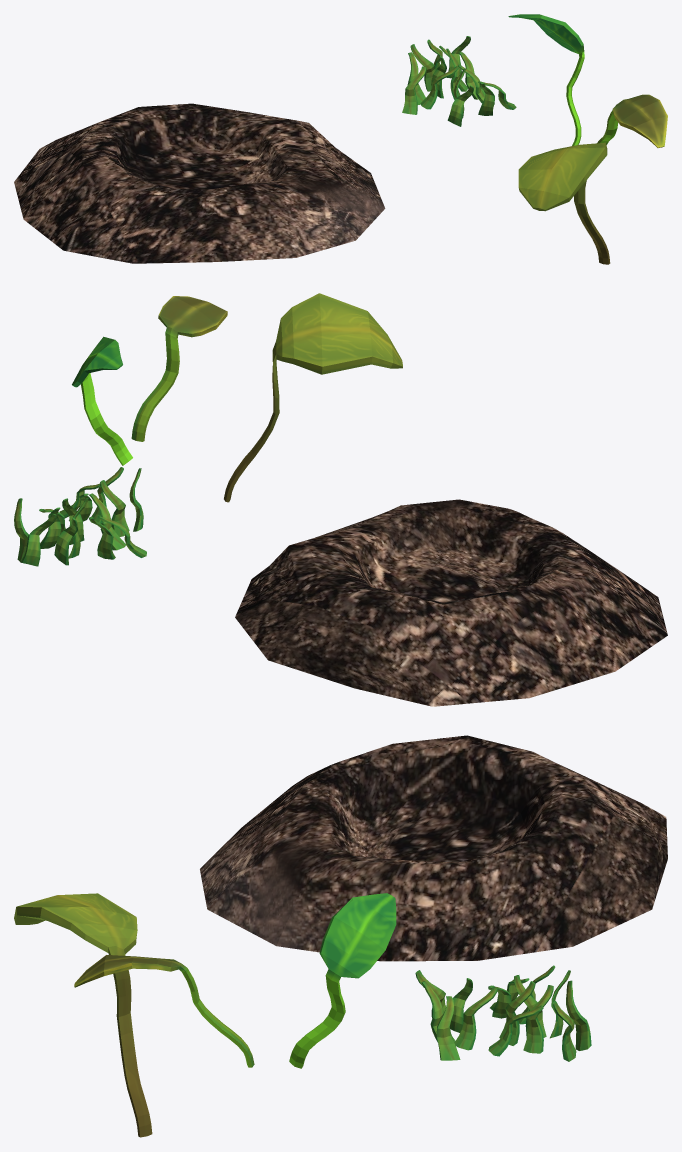
File: assets.glb
3 views of the same model, one above another, from view 1: azimuth 30°, elevation 25°; view 2: azimuth 150°, elevation 25°; view 3: azimuth 270°, elevation 25° (orthographic). The views are drawn at different scales.
Visible parts, largest first — view 1: Círculo, HOJA GRANDE, cesped, hojas; view 2: Círculo, HOJA GRANDE, hojas, cesped; view 3: Círculo, hojas, cesped, HOJA GRANDE.
Part boxes in pixels (bbox=[...]): Círculo: bbox=[14, 103, 385, 263]; HOJA GRANDE: bbox=[518, 142, 610, 264]; cesped: bbox=[402, 36, 516, 126]; hojas: bbox=[508, 14, 667, 147]; Círculo: bbox=[235, 499, 667, 706]; HOJA GRANDE: bbox=[224, 293, 402, 502]; hojas: bbox=[72, 296, 227, 465]; cesped: bbox=[14, 467, 146, 566]; Círculo: bbox=[200, 735, 667, 961]; hojas: bbox=[74, 893, 396, 1068]; cesped: bbox=[415, 965, 591, 1061]; HOJA GRANDE: bbox=[14, 893, 152, 1137].
Bounding box in the file's own units: 3.2 × 1.13 × 2.7.
3 materials, 3 textured.
